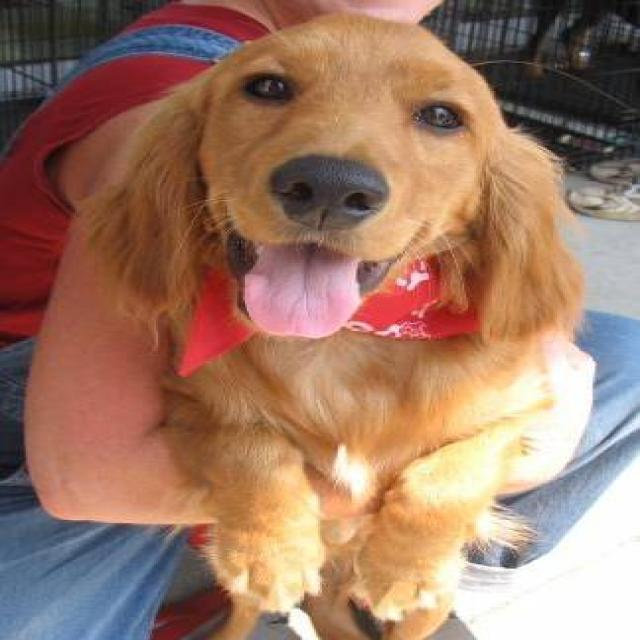dog: (63, 9, 597, 638)
